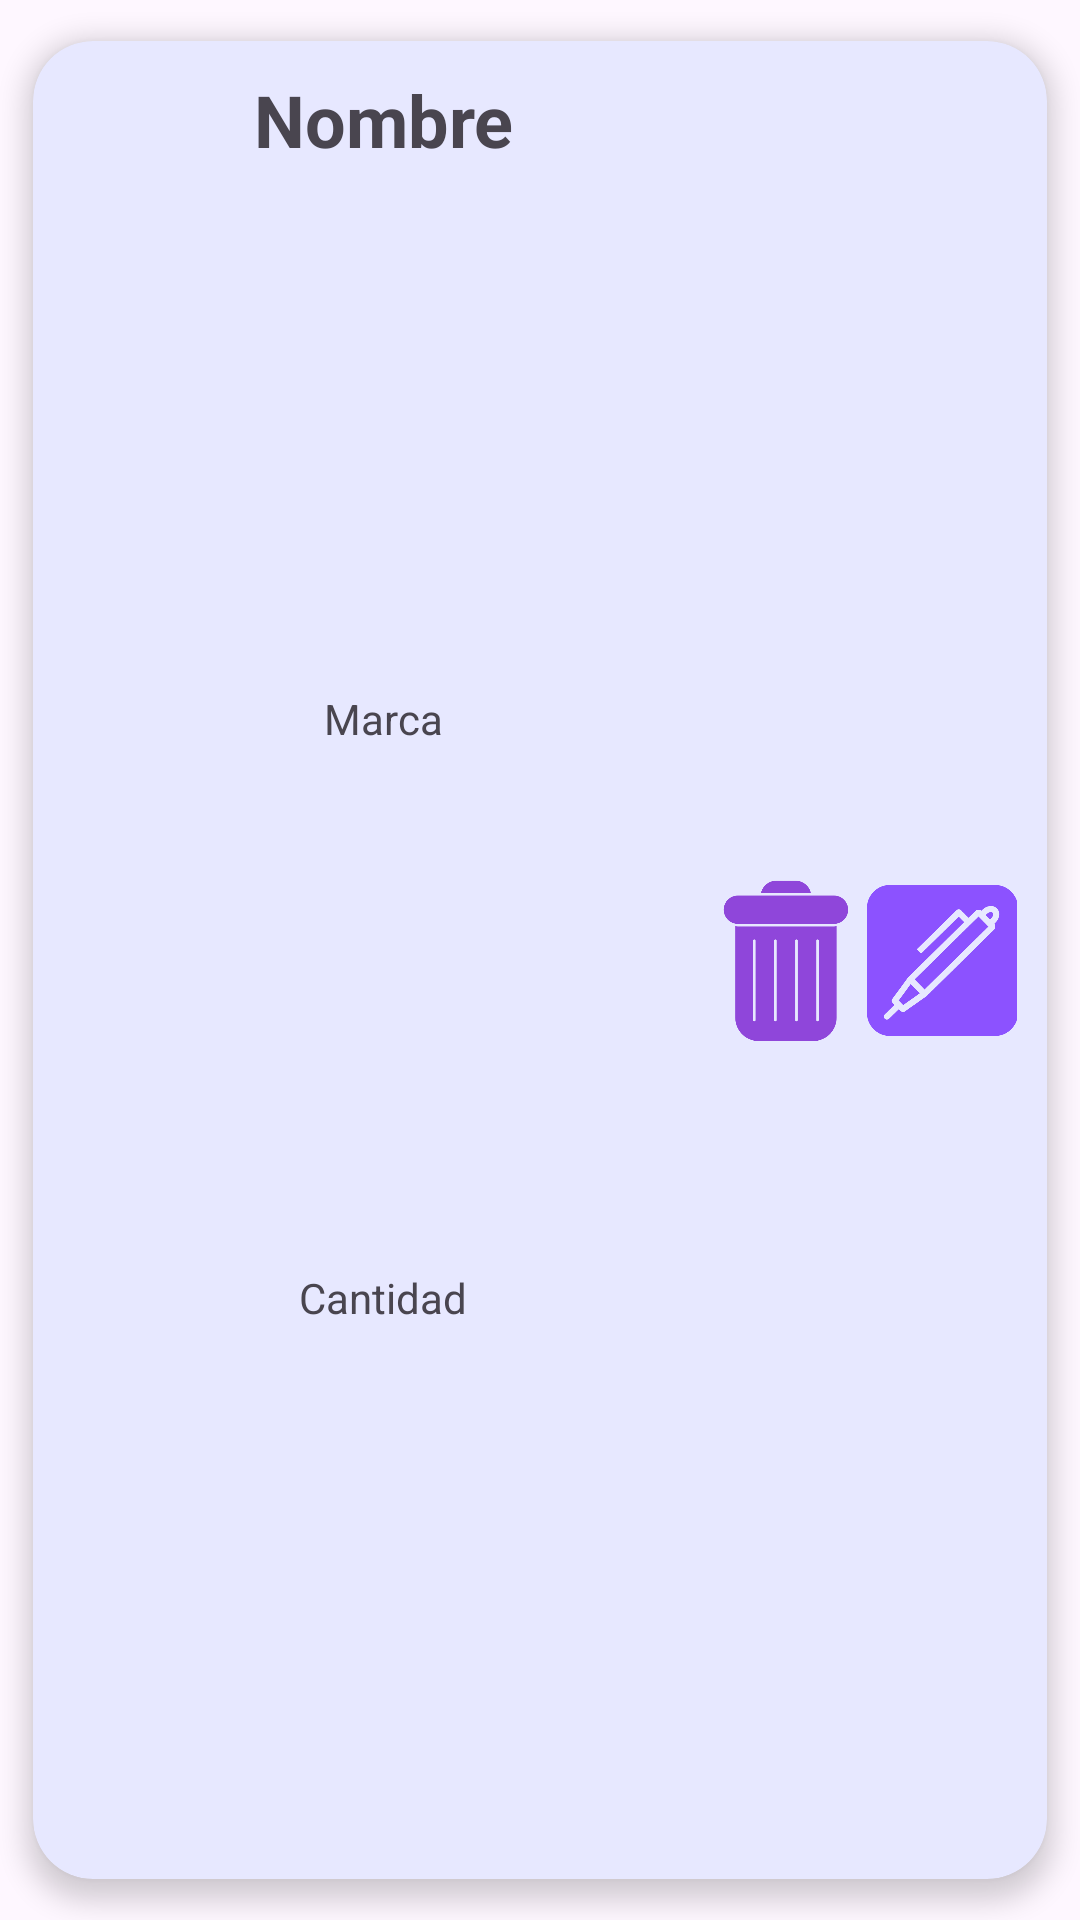

Point at icon controls on the screen. Image size 1080px×1920px, points as (x=x, y=y).
delete: (x=786, y=961)
edit: (x=942, y=960)
